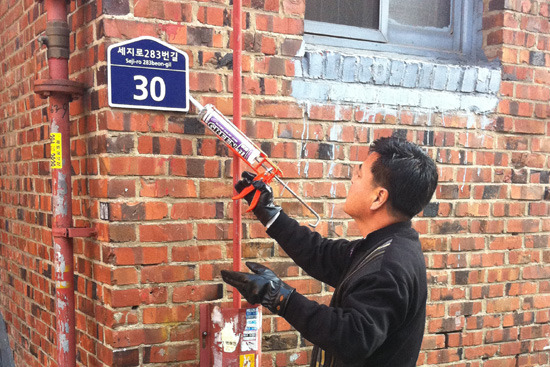building_license_plate: (107, 37, 189, 112)
